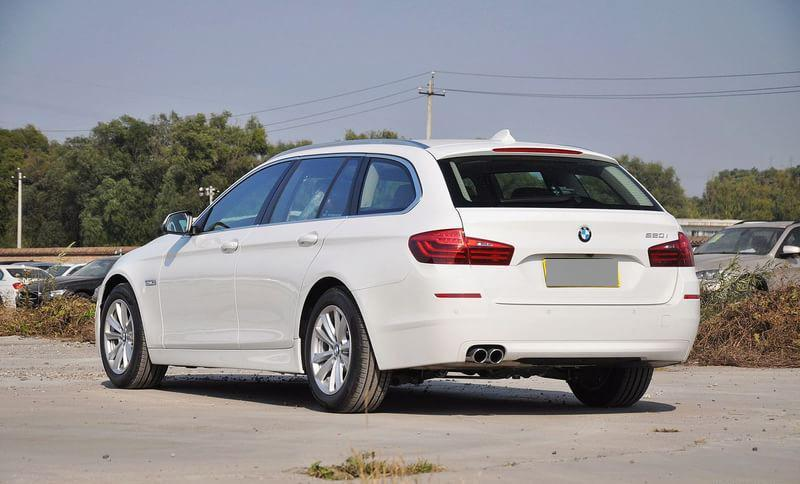Wagon: (93, 126, 703, 411)
